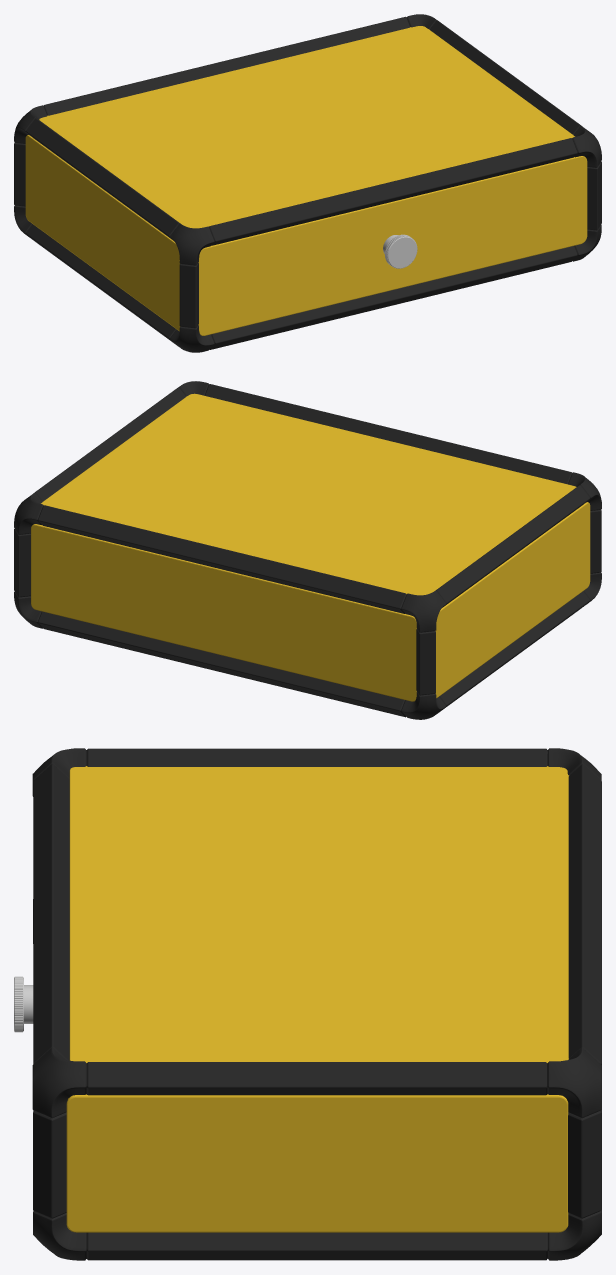
The picture shows the model from 3 angles, top to bottom: view 1: azimuth 30°, elevation 25°; view 2: azimuth 150°, elevation 25°; view 3: azimuth 270°, elevation 25°; orthographic projection. The views are drawn at different scales.
Parts seen in each view (by area): view 1: 479x329x79; view 2: 479x329x79; view 3: 479x329x79.
Part boxes in pixels (box(x1,y1,x2,y2)): 479x329x79: box(14, 14, 601, 352); 479x329x79: box(14, 381, 601, 719); 479x329x79: box(14, 748, 601, 1260).
Bounding box in the file's own units: 0.5567 × 0.1567 × 0.4196.
